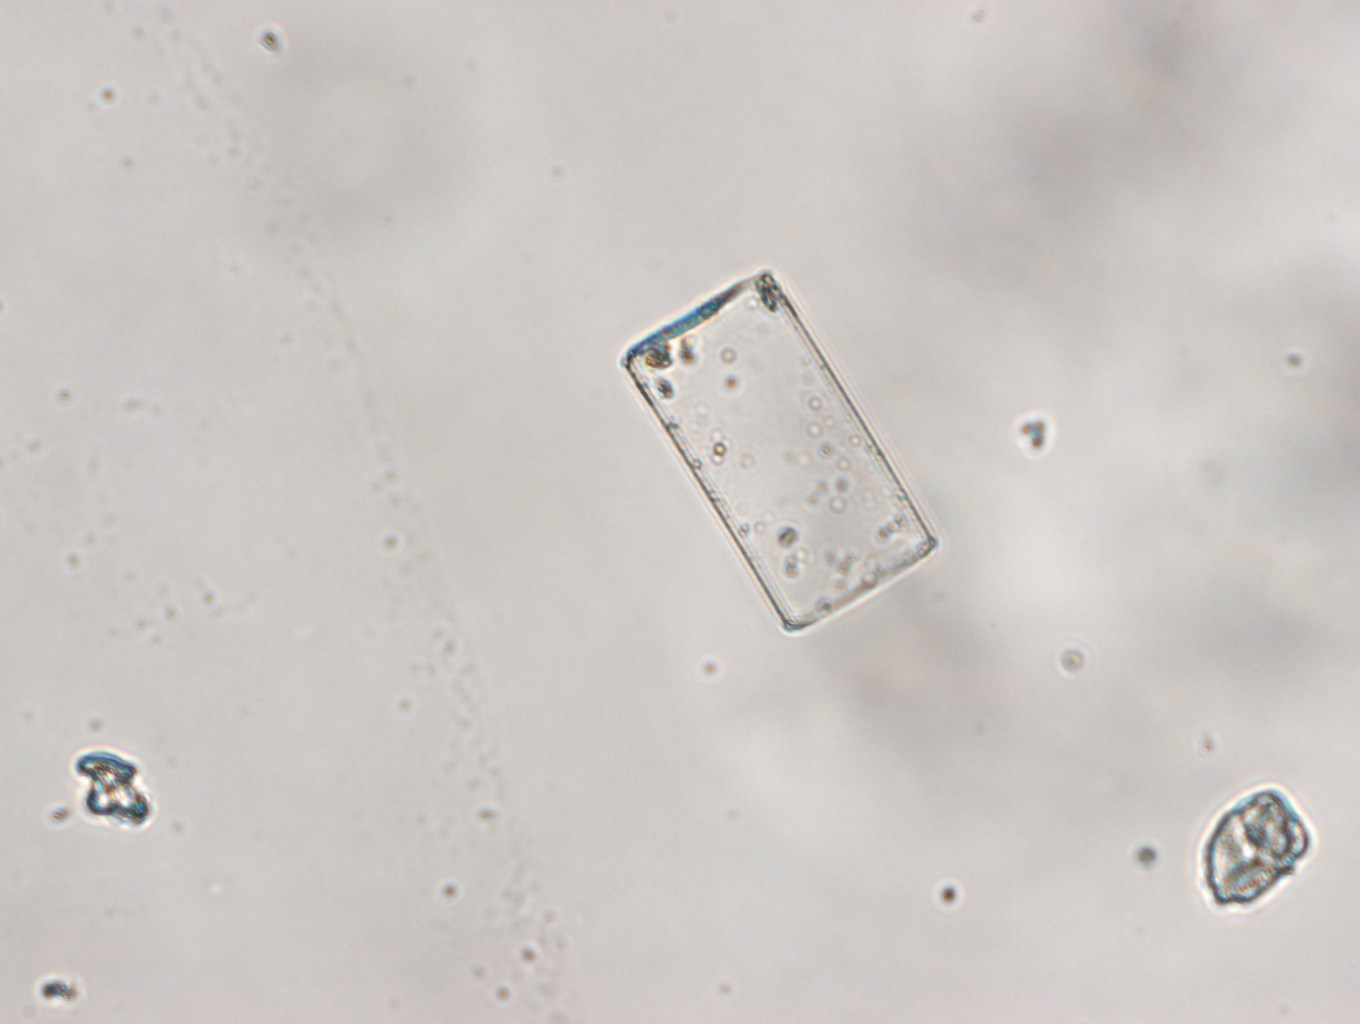guinardia flaccida: (618, 265, 940, 635)
